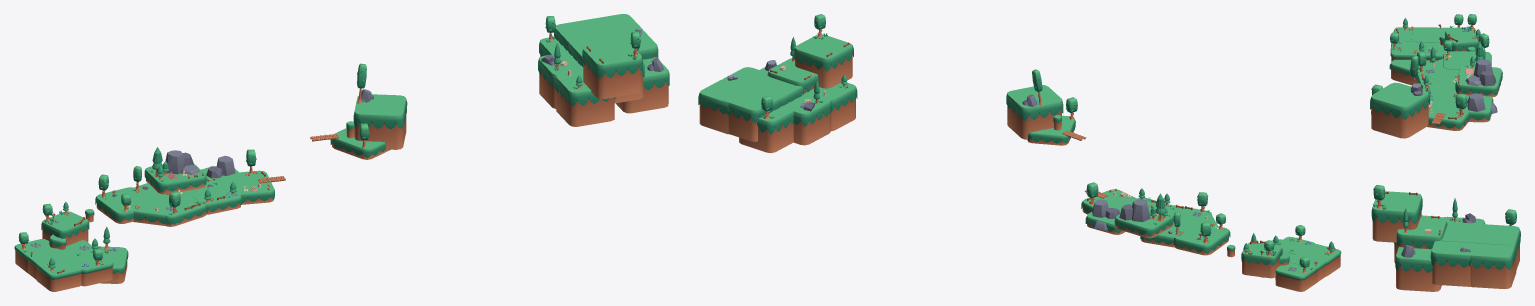
The model's file is map1.glb.
3 views of the same model, side by side, from view 1: azimuth 30°, elevation 25°; view 2: azimuth 150°, elevation 25°; view 3: azimuth 270°, elevation 25° (orthographic). The views are drawn at different scales.
Parts seen in each view (by area): view 1: block-grass-overhang-low-large.001, block-grass-overhang-large.012, block-grass-overhang-large.002, block-grass-overhang-large.011, block-grass-overhang-large.014, block-grass-overhang-low-large.013, block-grass-overhang-large.001, block-grass-overhang-large.009, block-grass-overhang-large.015, block-grass-large.009, block-grass-large.006, block-grass-overhang-low-large.017 (+4 smaller); view 2: block-grass-overhang-large.002, block-grass-overhang-low-large.001, block-grass-overhang-large.012, block-grass-overhang-large.011, block-grass-overhang-large.015, block-grass-overhang-low-large.013, block-grass-overhang-large.017, block-grass-overhang-large.014, block-grass-overhang-large.009, block-grass-large.007, block-grass-overhang-large.013, block-grass-overhang-low-large.017 (+3 smaller); view 3: block-grass-overhang-large.002, block-grass-overhang-low-large.001, block-grass-overhang-large.011, block-grass-overhang-large.012, block-grass-overhang-large.001, block-grass-overhang-low-large.013, block-grass-overhang-large.013, block-grass-overhang-large.009, block-grass-overhang-large.010, block-grass-large.006, block-grass-large.008, rocks.013 (+15 smaller).
Part boxes in pixels (<box>): block-grass-overhang-low-large.001: <box>95,168,274,226</box>; block-grass-overhang-large.012: <box>582,40,642,98</box>; block-grass-overhang-large.002: <box>554,14,658,66</box>; block-grass-overhang-large.011: <box>353,94,407,149</box>; block-grass-overhang-large.014: <box>555,71,615,126</box>; block-grass-overhang-low-large.013: <box>144,147,206,194</box>; block-grass-overhang-large.001: <box>616,57,669,113</box>; block-grass-overhang-large.009: <box>41,211,89,246</box>; block-grass-overhang-large.015: <box>538,51,583,108</box>; block-grass-large.009: <box>36,260,82,291</box>; block-grass-large.006: <box>69,250,113,286</box>; block-grass-overhang-low-large.017: <box>330,128,390,159</box>; block-grass-overhang-large.002: <box>698,67,803,141</box>; block-grass-overhang-low-large.001: <box>1081,189,1230,255</box>; block-grass-overhang-large.012: <box>793,34,853,88</box>; block-grass-overhang-large.011: <box>1006,85,1063,139</box>; block-grass-overhang-large.015: <box>781,92,831,145</box>; block-grass-overhang-low-large.013: <box>1114,193,1174,238</box>; block-grass-overhang-large.017: <box>739,107,793,153</box>; block-grass-overhang-large.014: <box>809,82,857,131</box>; block-grass-overhang-large.009: <box>1241,242,1282,278</box>; block-grass-large.007: <box>1275,262,1318,291</box>; block-grass-overhang-large.013: <box>767,58,818,93</box>; block-grass-overhang-low-large.017: <box>1027,115,1075,145</box>; block-grass-overhang-large.002: <box>1430,222,1520,288</box>; block-grass-overhang-low-large.001: <box>1415,51,1493,130</box>; block-grass-overhang-large.011: <box>1370,82,1429,138</box>; block-grass-overhang-large.012: <box>1371,191,1422,242</box>; block-grass-overhang-large.001: <box>1395,246,1441,291</box>; block-grass-overhang-low-large.013: <box>1455,41,1502,97</box>; block-grass-overhang-large.013: <box>1396,216,1447,250</box>; block-grass-overhang-large.009: <box>1445,27,1478,51</box>; block-grass-overhang-large.010: <box>1389,60,1436,85</box>; block-grass-large.006: <box>1390,41,1425,61</box>; block-grass-large.008: <box>1411,27,1445,42</box>; rocks.013: <box>1467,93,1497,114</box>.
Size of the model in its own units: 80.08 by 17.98 by 17.72.
50 materials, 32 textured.
